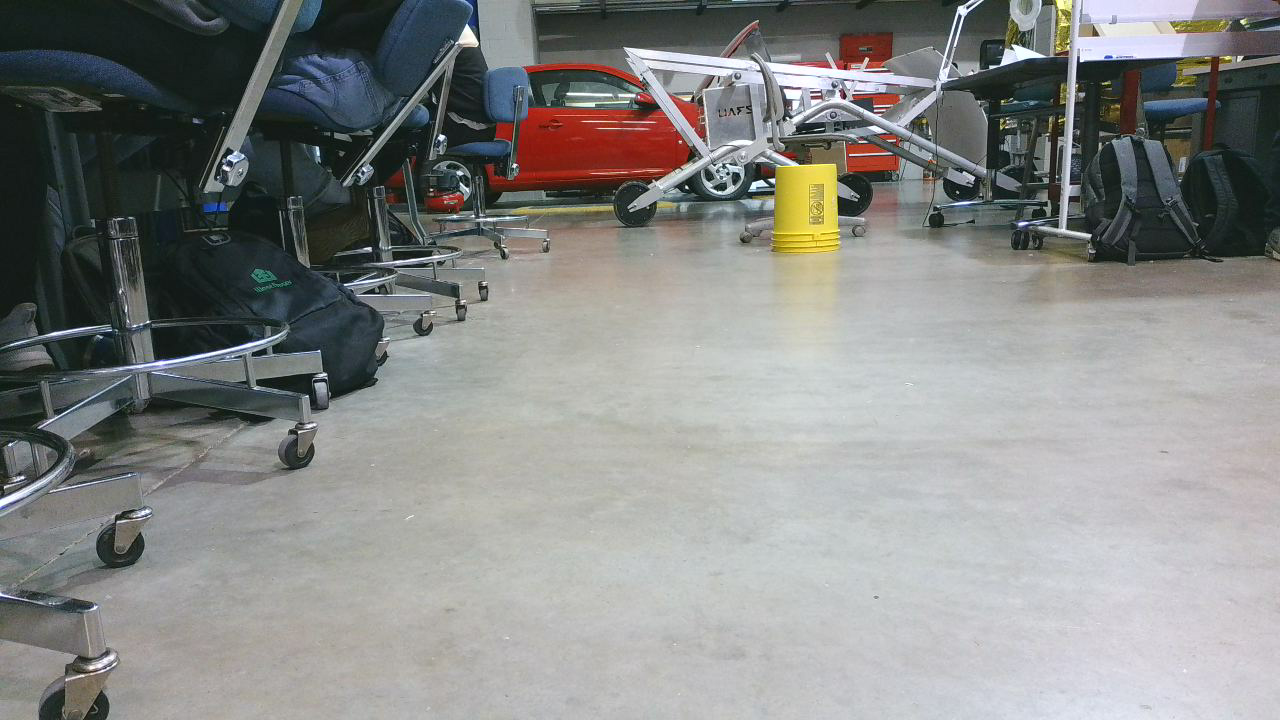yellow_bucket: (770, 164, 854, 263)
